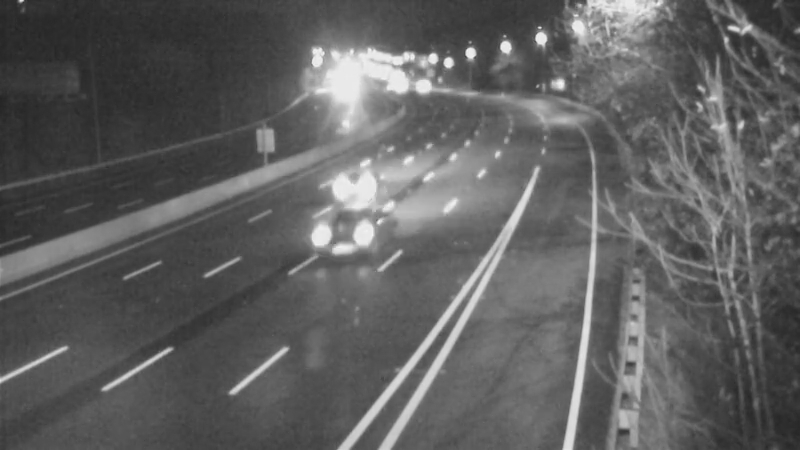vehicle: (312, 144, 392, 224), (313, 195, 393, 275), (392, 58, 442, 108)
